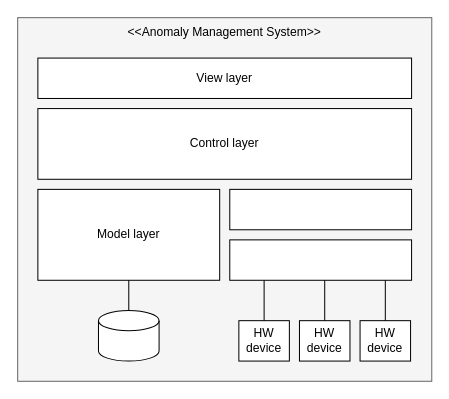
This 449x399 diagram has some shape labels left out. Each missing label, with the centre of its shape:
"DB" goes at pixel 128 335.
"Hardware device abstract layer" goes at pixel 320 209.
"Hardware device adapter layer" goes at pixel 320 259.
